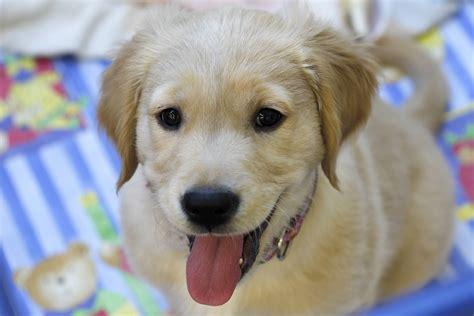dog: (99, 7, 454, 316)
